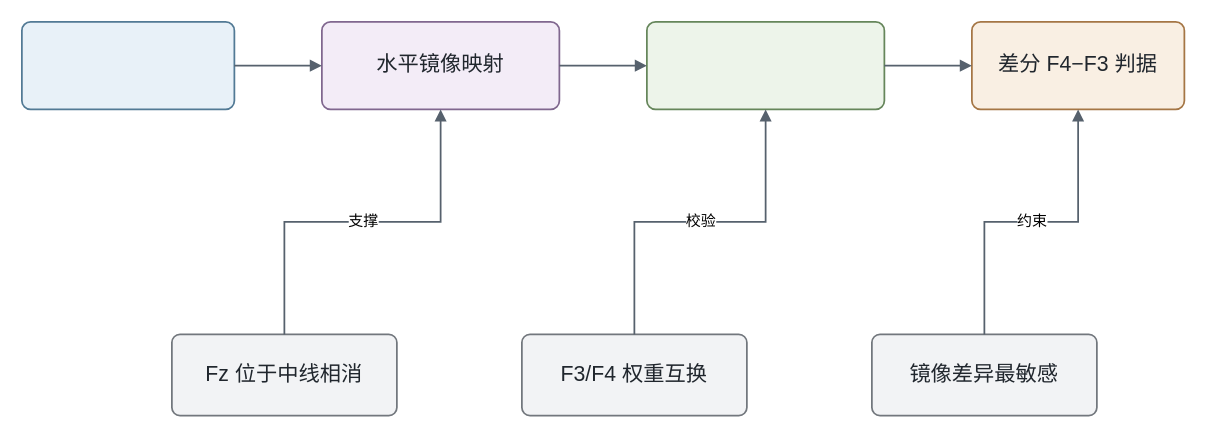
Image size: 1208x439. Some labels were removed from this diagram. Each missing label, with the centre of its shape:
"右指三角源分布" belongs at (127,65).
"左指三角源分布" belongs at (765,65).
